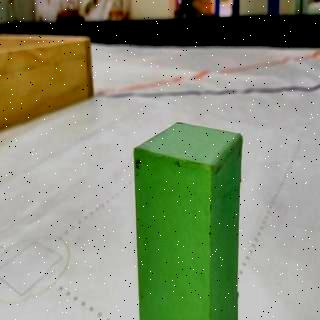greenbox: (131, 119, 244, 320)
